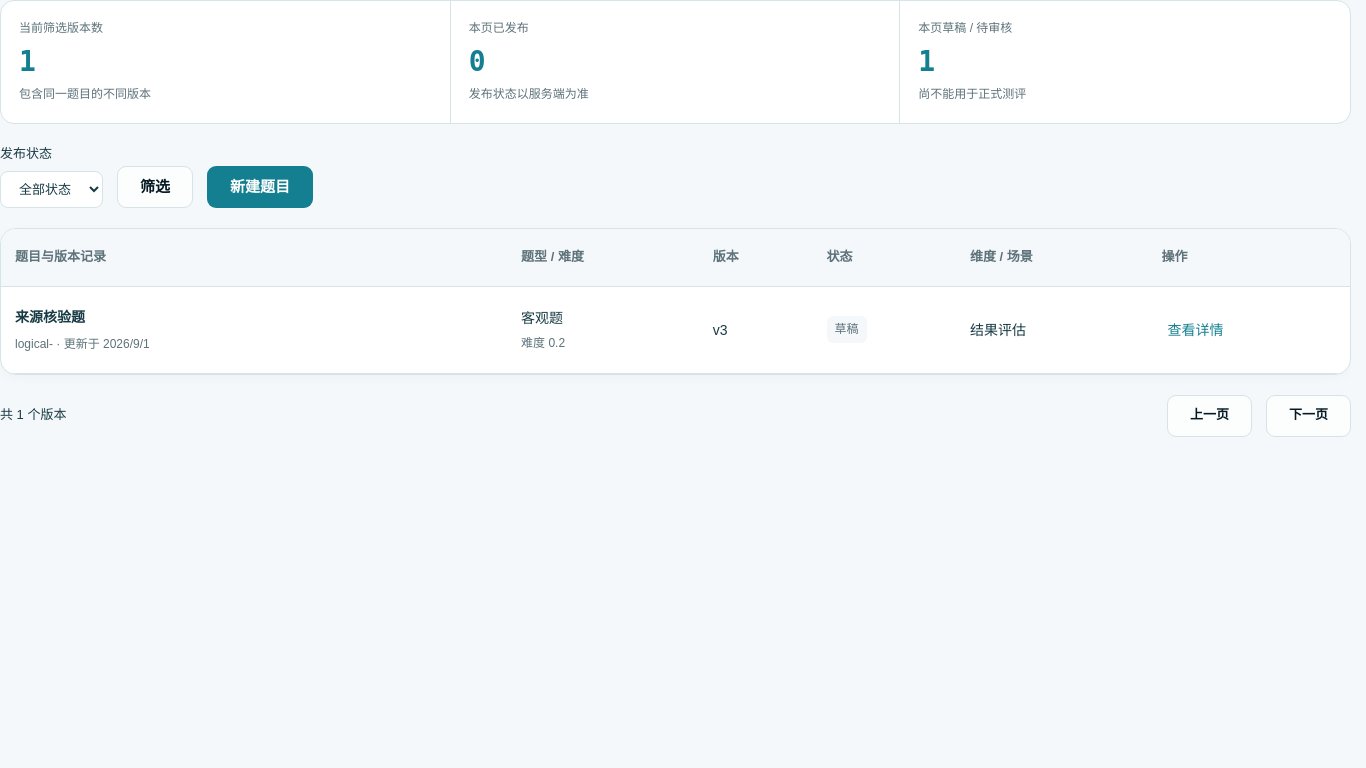
Test: content version library › offers new-item creation only for items, not other content kinds
What coordinates should you click on to do the following:
click the button with test id "new-item"
I would click on:
 (260, 187)
Its box is [207,166,313,208].
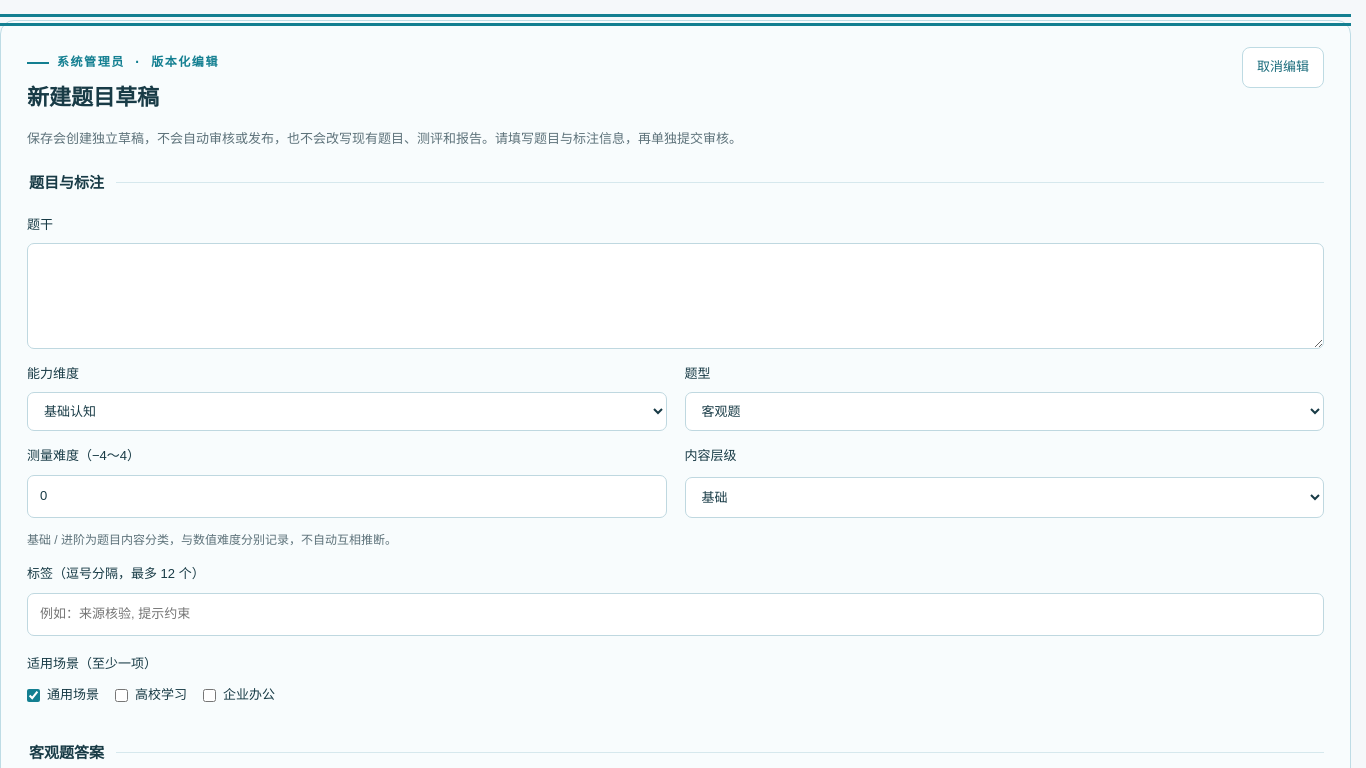
Now the text "新建题目草稿" is shown, box [27,85,159,110]
